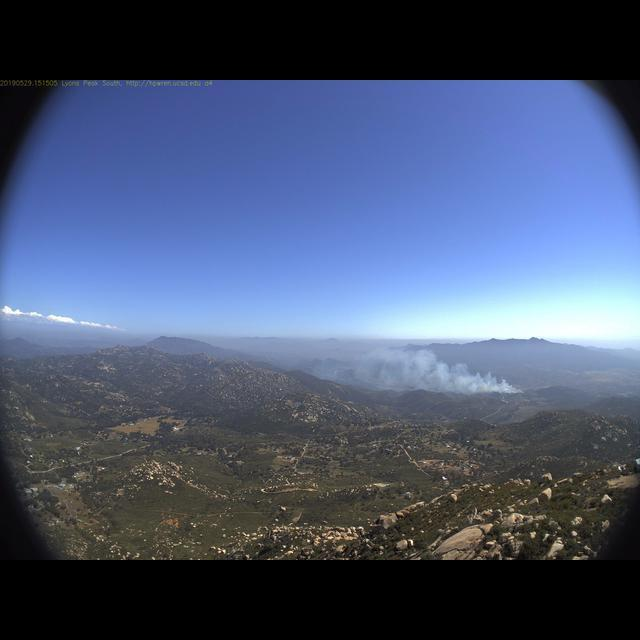Smoke: (303, 343, 525, 399)
